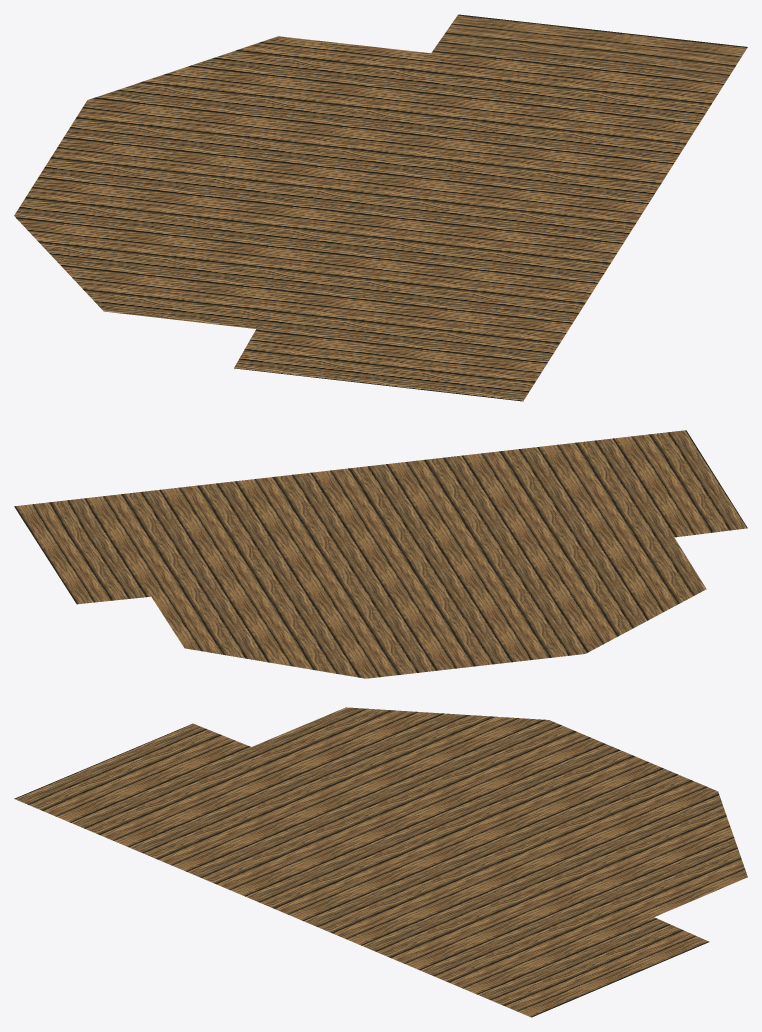
The model's file is LAKETOWN_EXTERIOR_PS_LT_PIER_WOOD14.fbx.
The picture shows the model from 3 angles, top to bottom: view 1: azimuth 30°, elevation 25°; view 2: azimuth 150°, elevation 25°; view 3: azimuth 270°, elevation 25°; orthographic projection. The views are drawn at different scales.
Visible parts, largest first — view 1: LAKETOWN_EXTERIOR_PS_LT_PIER_WOOD14; view 2: LAKETOWN_EXTERIOR_PS_LT_PIER_WOOD14; view 3: LAKETOWN_EXTERIOR_PS_LT_PIER_WOOD14.
Part boxes in pixels (x1,y1,x2,y2): LAKETOWN_EXTERIOR_PS_LT_PIER_WOOD14: (14, 14, 747, 401); LAKETOWN_EXTERIOR_PS_LT_PIER_WOOD14: (14, 430, 747, 678); LAKETOWN_EXTERIOR_PS_LT_PIER_WOOD14: (14, 707, 747, 1017).
Size of the model in its own units: 205383 by 0.1336 by 205383.
Materials: 1 (1 with a texture image).
